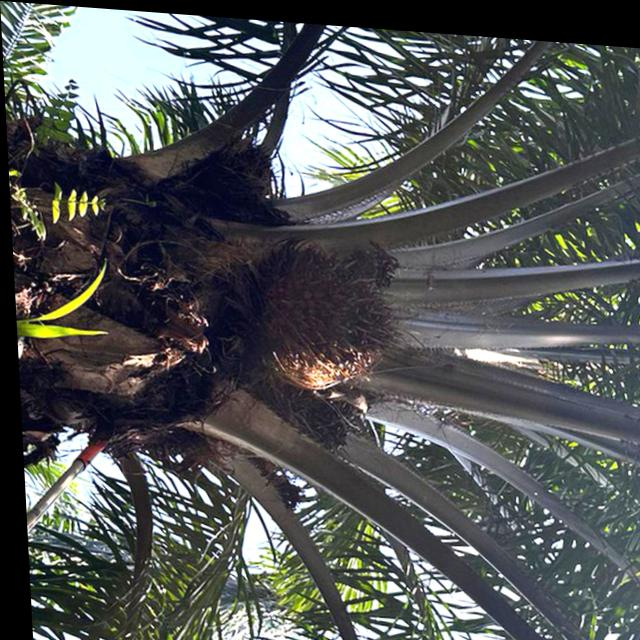ripe: (254, 229, 402, 390), (283, 382, 352, 450)
